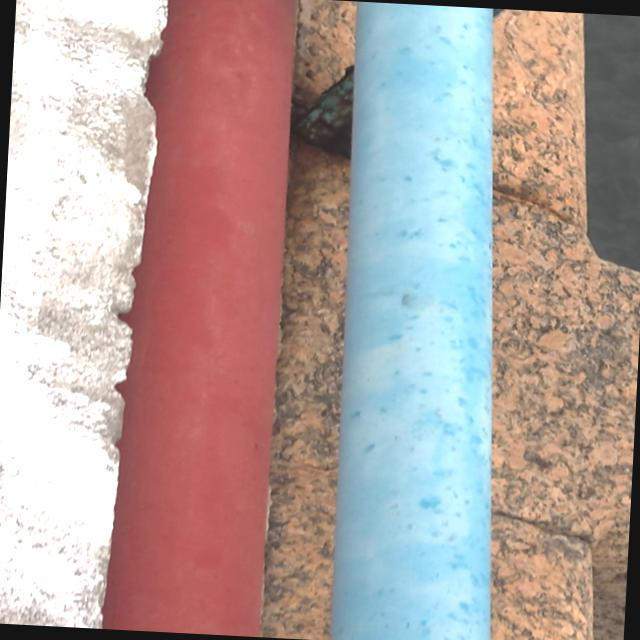gas: (320, 1, 525, 640), (100, 0, 294, 637)
